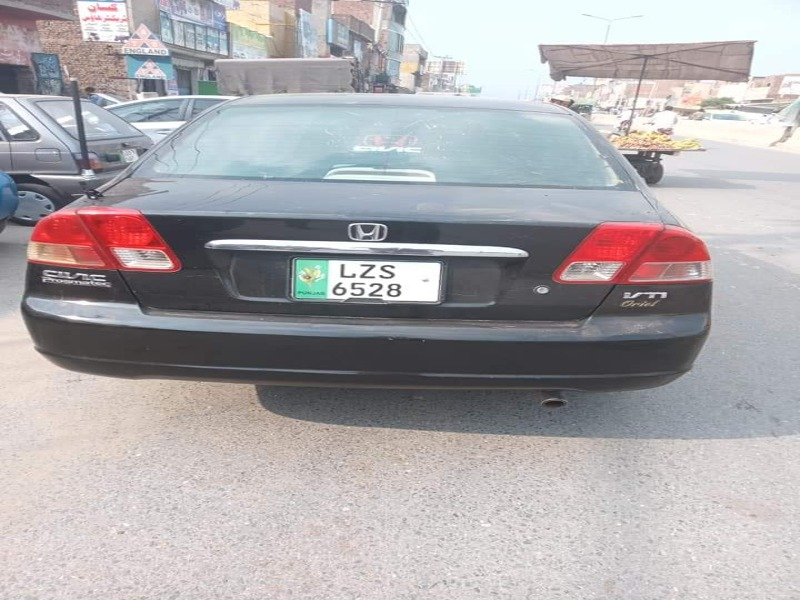License Plate: (287, 252, 450, 308)
